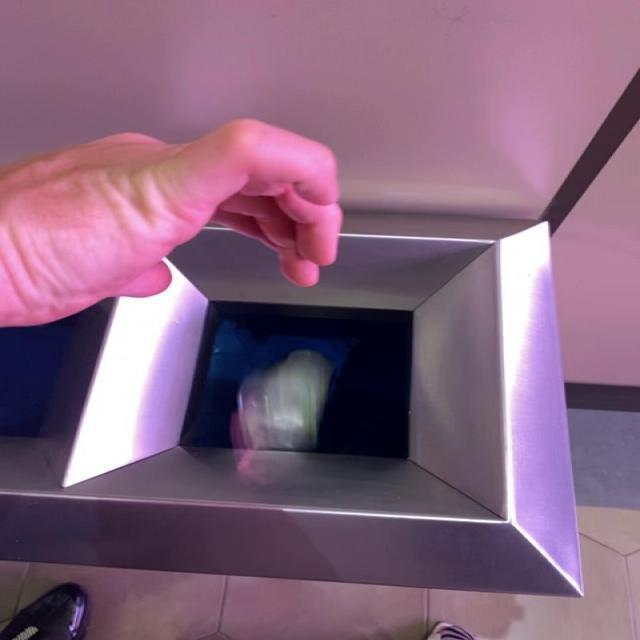cardboard: (1, 213, 584, 598)
cups: (229, 347, 334, 451)
